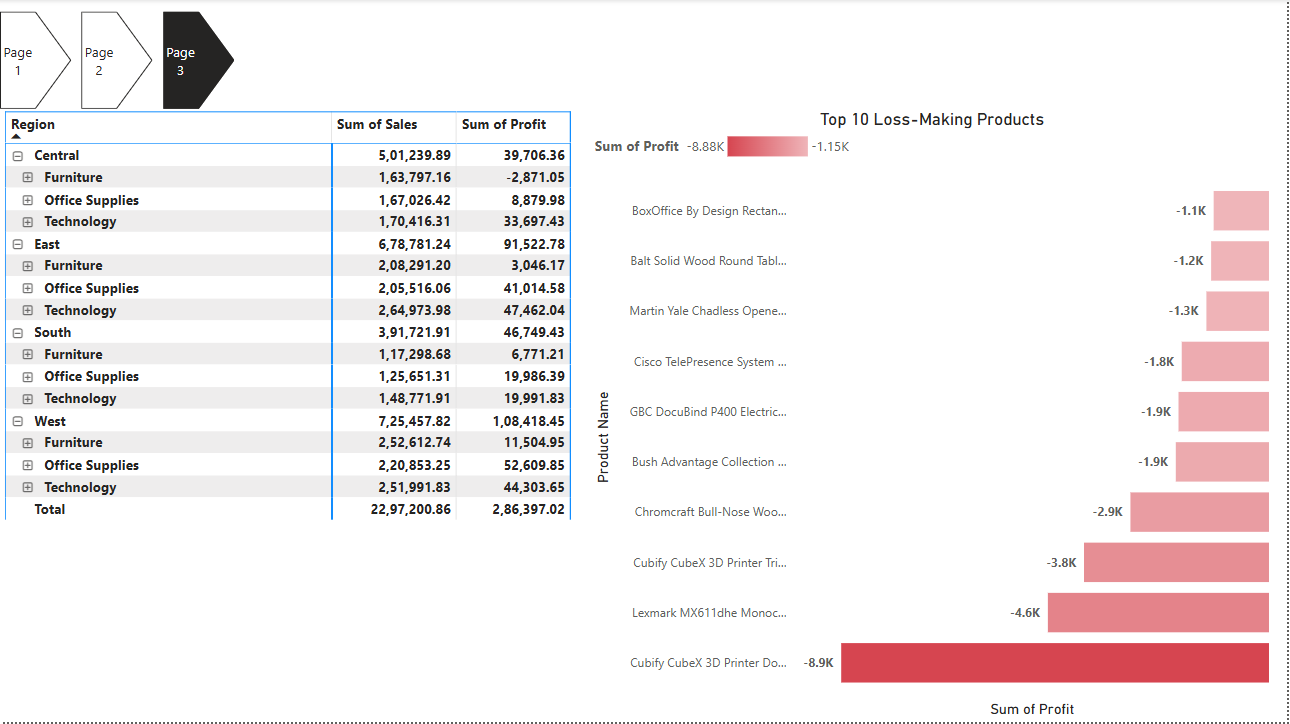

This screenshot's page, from the dashboard's own definition file:
{"tool":"powerbi","page":{"name":"Page 3","canvas":[1280,720],"ordinal":2},"visuals":[{"type":"pivotTable","fields":{"Rows":["Sample - Superstore.Region","Sample - Superstore.Category","Sample - Superstore.Product Name"],"Values":["Sum(Sample - Superstore.Sales)","Sum(Sample - Superstore.Profit)"]},"box":[0,107.4,587.1,613],"z":0},{"type":"pageNavigator","box":[0,12.3,234.6,97.4],"z":1},{"type":"barChart","title":"Top 10 Loss-Making Products","fields":{"Category":["Sample - Superstore.Product Name"],"Y":["Sum(Sample - Superstore.Profit)"]},"box":[587.1,110.1,680.9,610.2],"z":2}]}

Visuals, with their boxes in screenshot pixels (x1, y1, x2, y2), scaled from the page's 1280x720 canvas onto the 1290x724 screenshot:
pivotTable - Sample - Superstore.Region x Sample - Superstore.Category: crop(0, 108, 592, 723)
pageNavigator: crop(0, 12, 236, 110)
"Top 10 Loss-Making Products" barChart: crop(592, 111, 1278, 723)
